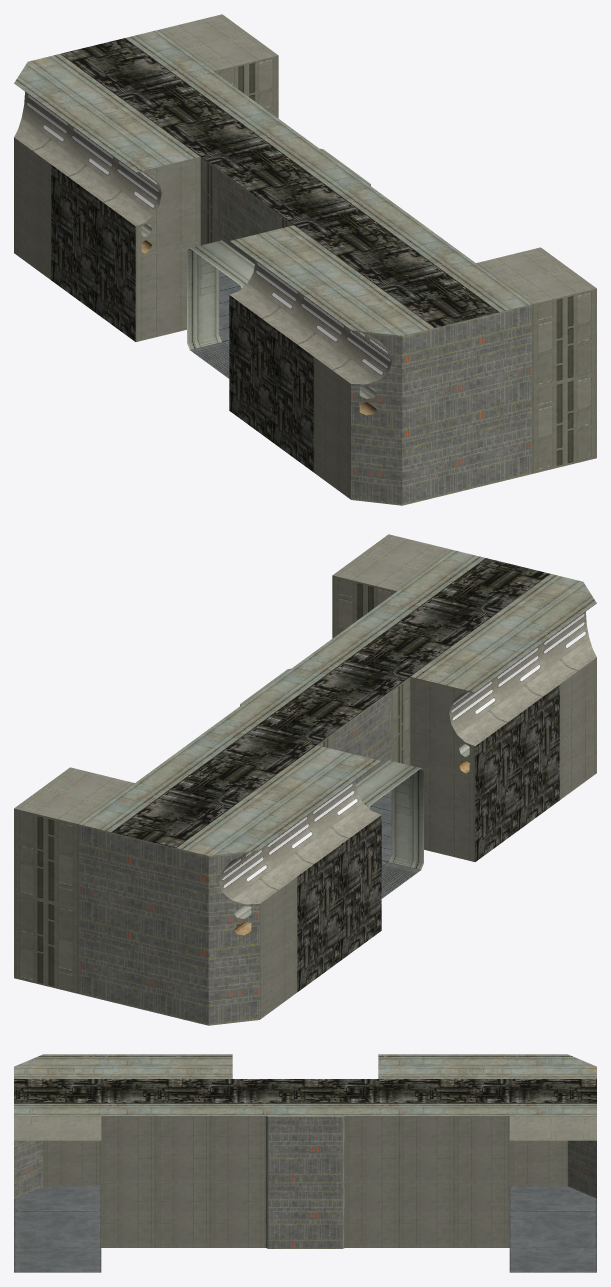
Rendered from thm_tato_fallen_star_r4_foyer02_mesh_r4.fbx.
The picture shows the model from 3 angles, top to bottom: view 1: azimuth 30°, elevation 25°; view 2: azimuth 150°, elevation 25°; view 3: azimuth 270°, elevation 25°; orthographic projection. The views are drawn at different scales.
Parts seen in each view (by area): view 1: mesh_node; view 2: mesh_node; view 3: mesh_node.
Part boxes in pixels (x1,y1,x2,y2): mesh_node: (14,14,596,505); mesh_node: (14,534,596,1025); mesh_node: (14,1054,596,1272).
Size of the model in its own units: 7 by 5 by 20.
